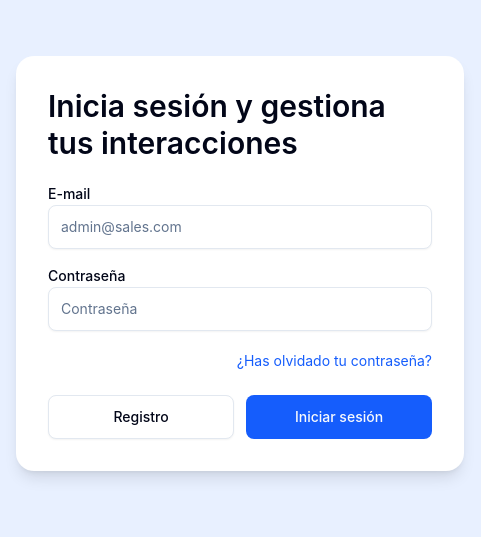
Test: LoginPage › muestra errores de validación al enviar el formulario vacío
Click the button "Iniciar sesión": (339, 416) x1=246 y1=394 x2=432 y2=438
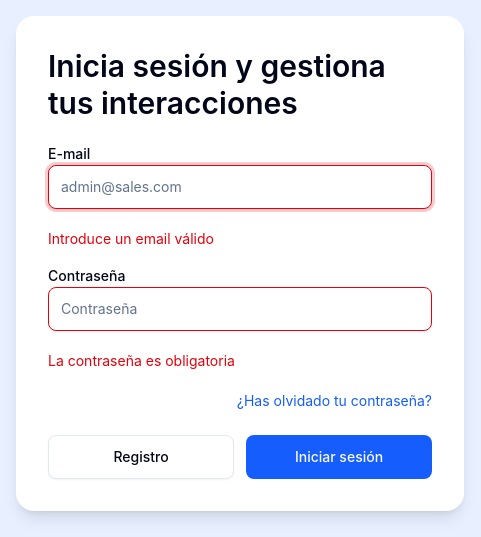
Expected: the text "Introduce un email válido" is shown, x1=48 y1=230 x2=214 y2=246
Expected: the text "La contraseña es obligatoria" is shown, x1=48 y1=352 x2=235 y2=368
